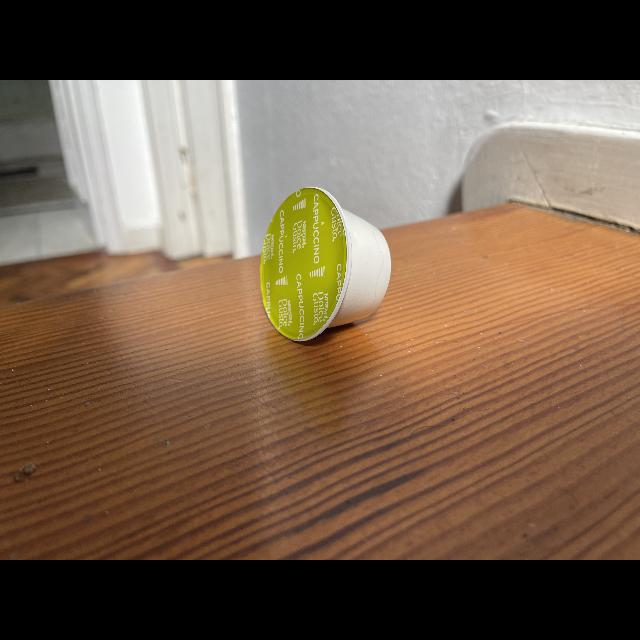intact_capsule: (243, 180, 409, 354)
